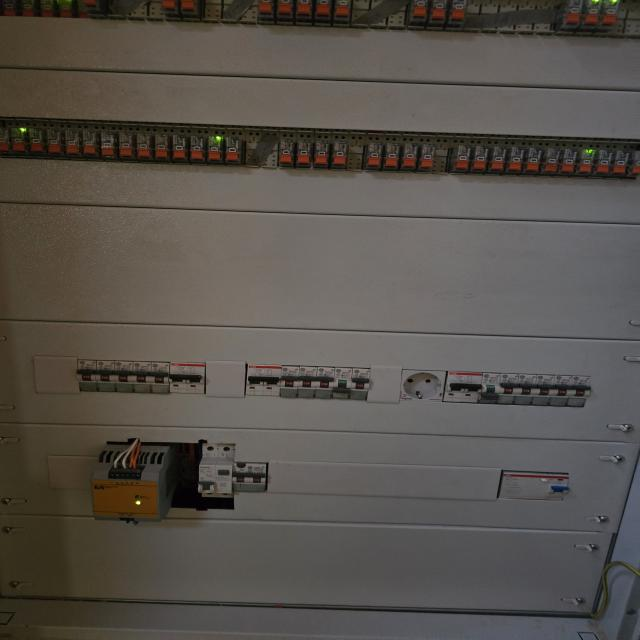FI: (496, 471, 570, 501)
FI_Sicherungskombi: (198, 443, 236, 498)
Leitungsschutzschalter: (566, 375, 591, 408), (531, 374, 556, 406), (477, 373, 501, 404), (549, 375, 573, 406), (331, 367, 353, 400), (443, 371, 466, 402), (460, 372, 483, 403), (149, 362, 171, 394), (349, 368, 371, 400), (515, 373, 537, 405), (297, 366, 318, 399), (77, 360, 98, 392), (95, 360, 116, 392), (113, 361, 134, 393), (131, 361, 152, 393), (167, 362, 188, 394), (244, 364, 265, 396), (279, 366, 300, 398), (314, 367, 335, 399), (497, 374, 519, 404), (187, 362, 207, 394), (262, 365, 282, 396), (248, 463, 266, 492), (233, 463, 249, 492)
Relais: (400, 143, 419, 170), (541, 148, 560, 174), (610, 150, 629, 176), (331, 140, 348, 169), (576, 149, 595, 174), (601, 0, 620, 25), (470, 146, 488, 172), (488, 147, 506, 173), (207, 135, 223, 164), (365, 142, 382, 169), (453, 145, 470, 172), (565, 0, 582, 27), (225, 136, 241, 164), (383, 143, 400, 169), (595, 150, 612, 176), (83, 130, 99, 157), (172, 134, 188, 161), (10, 127, 27, 152), (560, 148, 577, 173), (100, 132, 116, 158), (190, 135, 205, 162), (296, 140, 311, 167), (64, 130, 80, 155), (279, 139, 293, 167), (420, 144, 434, 171), (154, 134, 169, 159), (508, 147, 523, 172), (526, 148, 541, 173), (585, 0, 600, 25), (119, 132, 133, 158), (450, 0, 466, 22), (137, 134, 151, 159), (315, 142, 329, 167), (48, 130, 61, 155), (30, 129, 43, 153), (628, 150, 640, 176), (431, 0, 445, 22), (335, 0, 351, 18), (412, 0, 426, 19), (316, 0, 330, 16), (297, 0, 311, 16), (0, 128, 9, 152), (278, 0, 291, 15), (258, 0, 271, 14)
